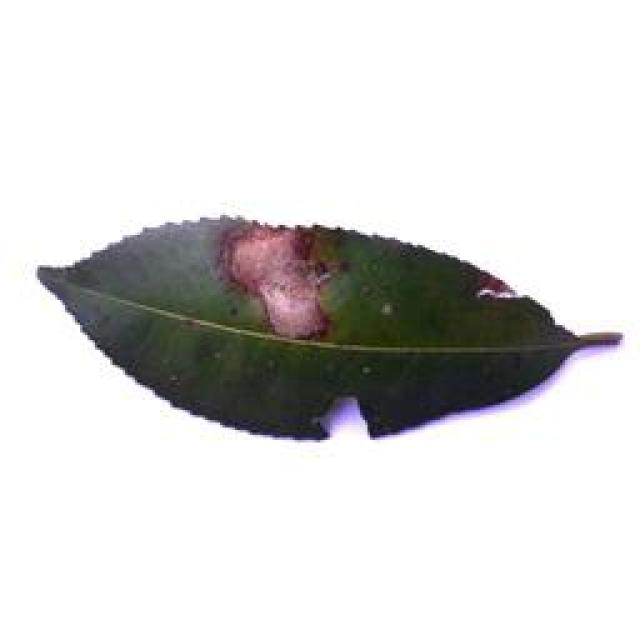Gray Blight: (35, 212, 622, 445)
